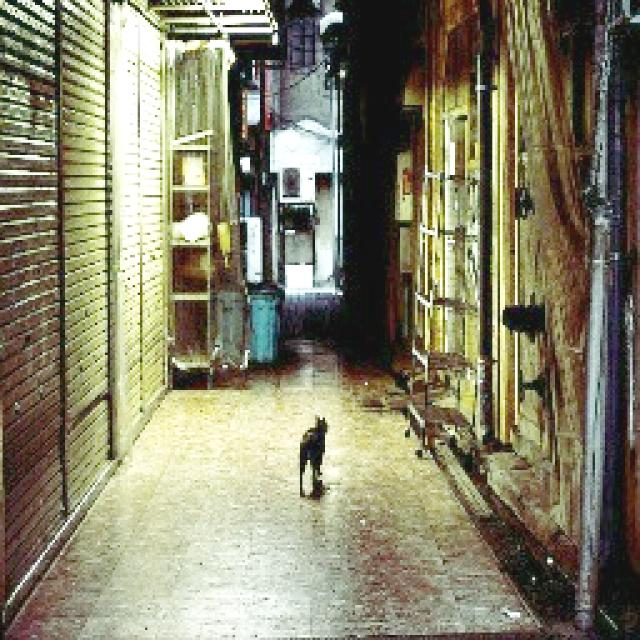cat: (296, 412, 330, 499)
